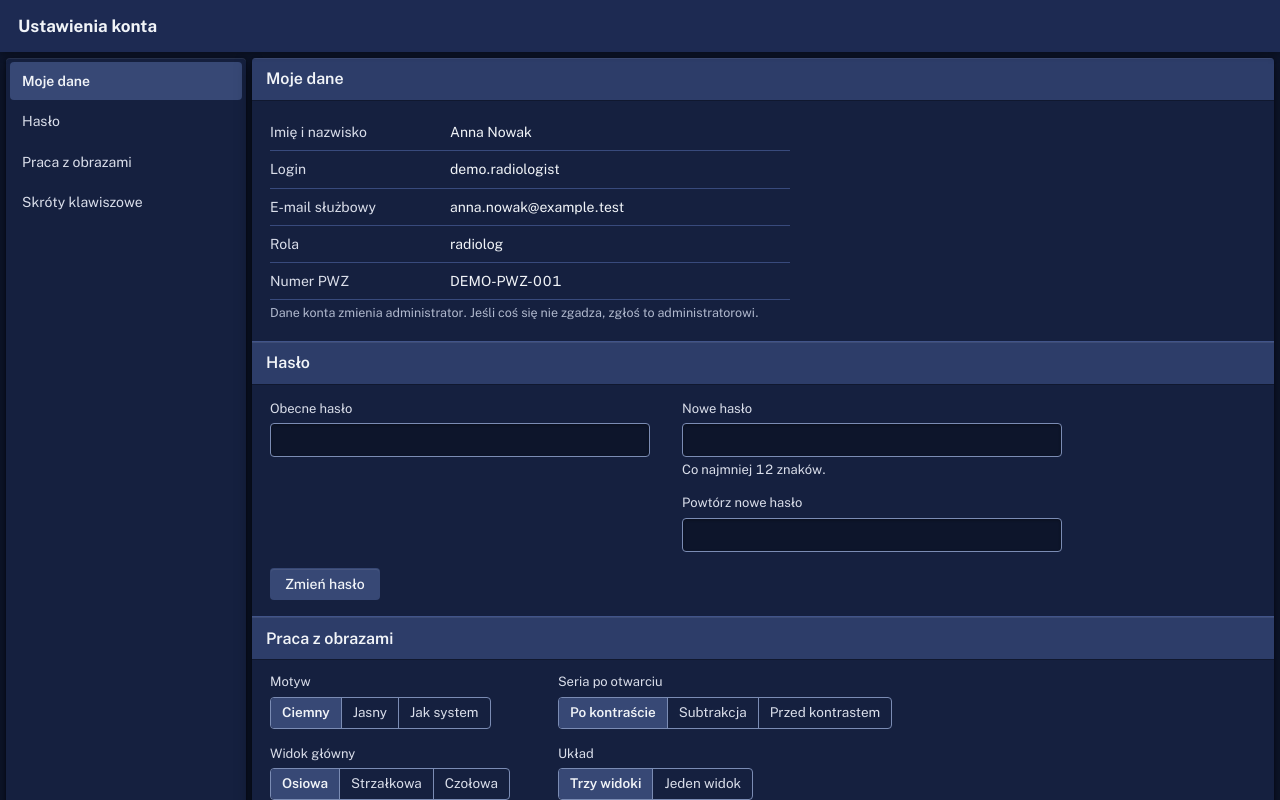
Test case: AccountPage › sends the current and the new password under the names the backend reads
The width and height of the screenshot is (1280, 800).
In the password field labelled "Obecne hasło": (460, 440) [270,424,650,458], type "DemoPass123!"
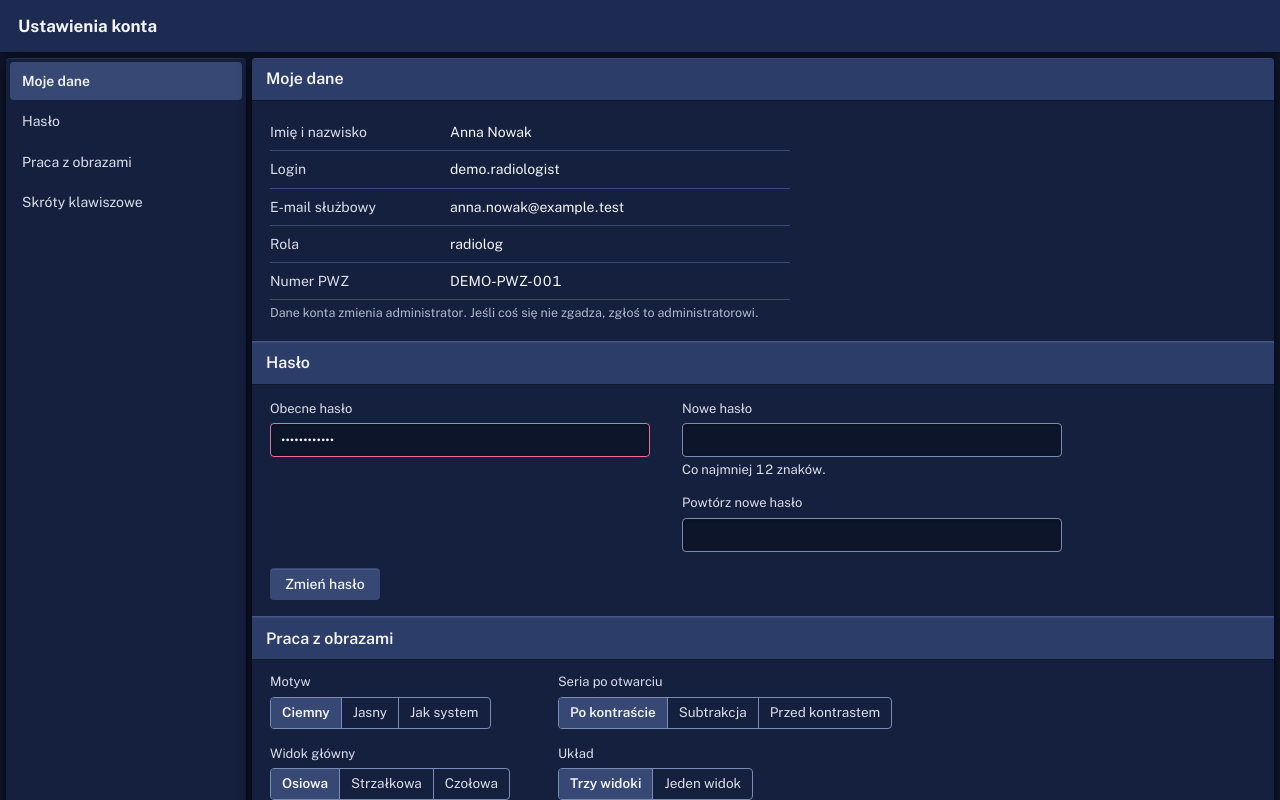
In the password field labelled "Nowe hasło Co najmniej 12 znaków.": (872, 440) [682,424,1062,458], type "NoweHaslo2026!"
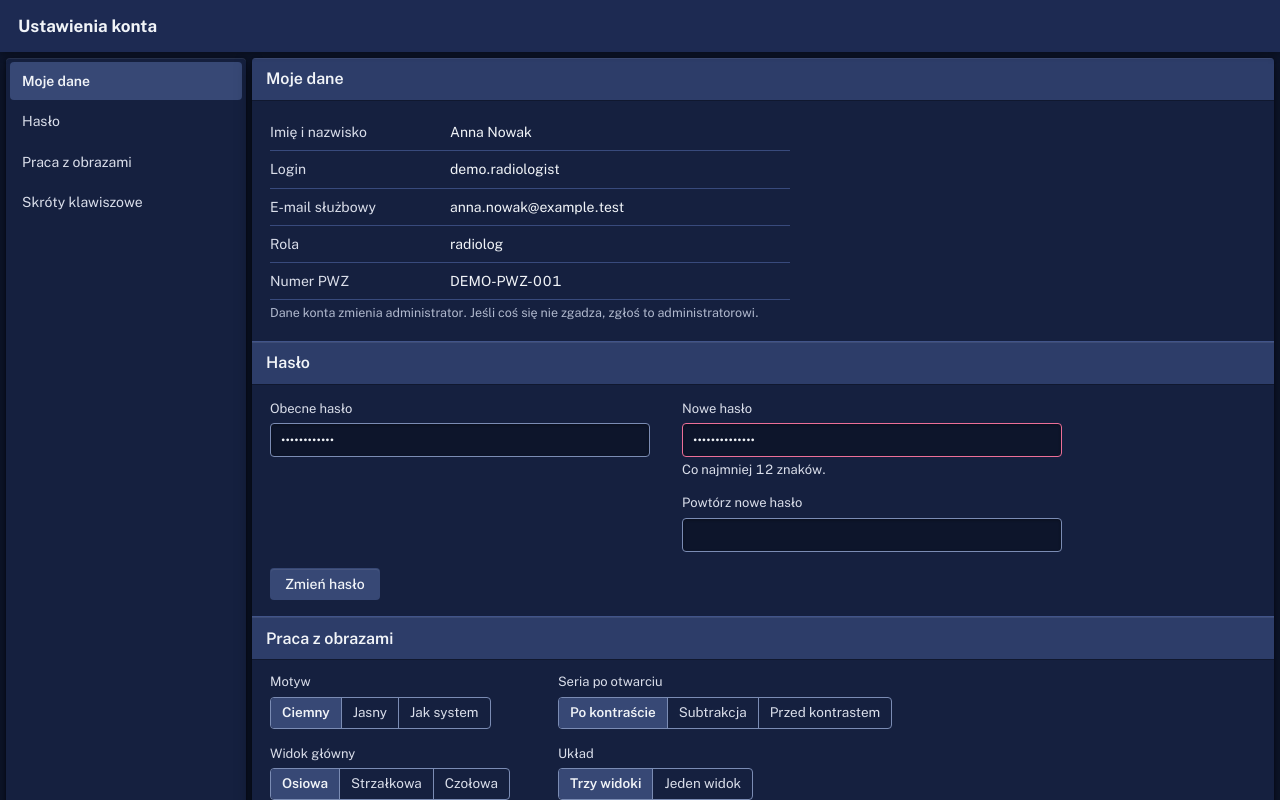
In the password field labelled "Powtórz nowe hasło": (872, 535) [682,518,1062,552], type "NoweHaslo2026!"
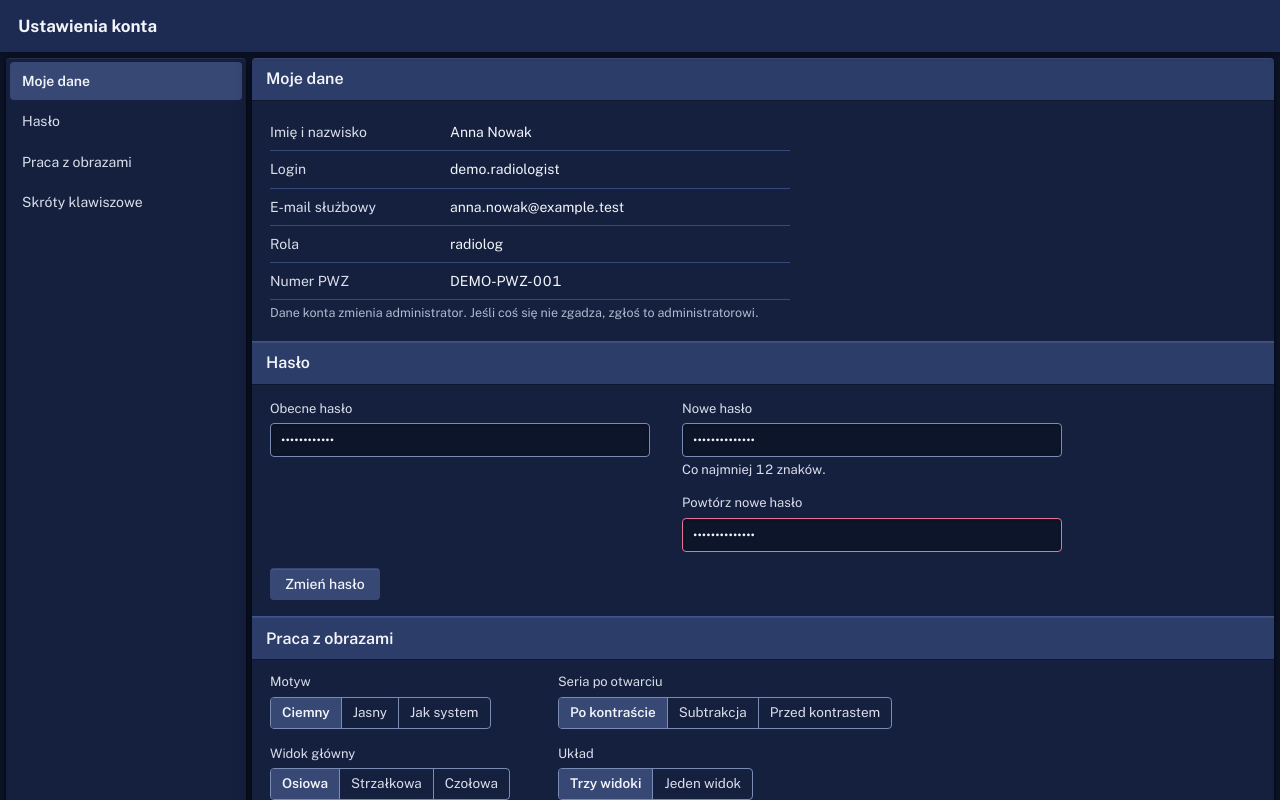
Click the button "Zmień hasło": (325, 584) [270,568,380,600]
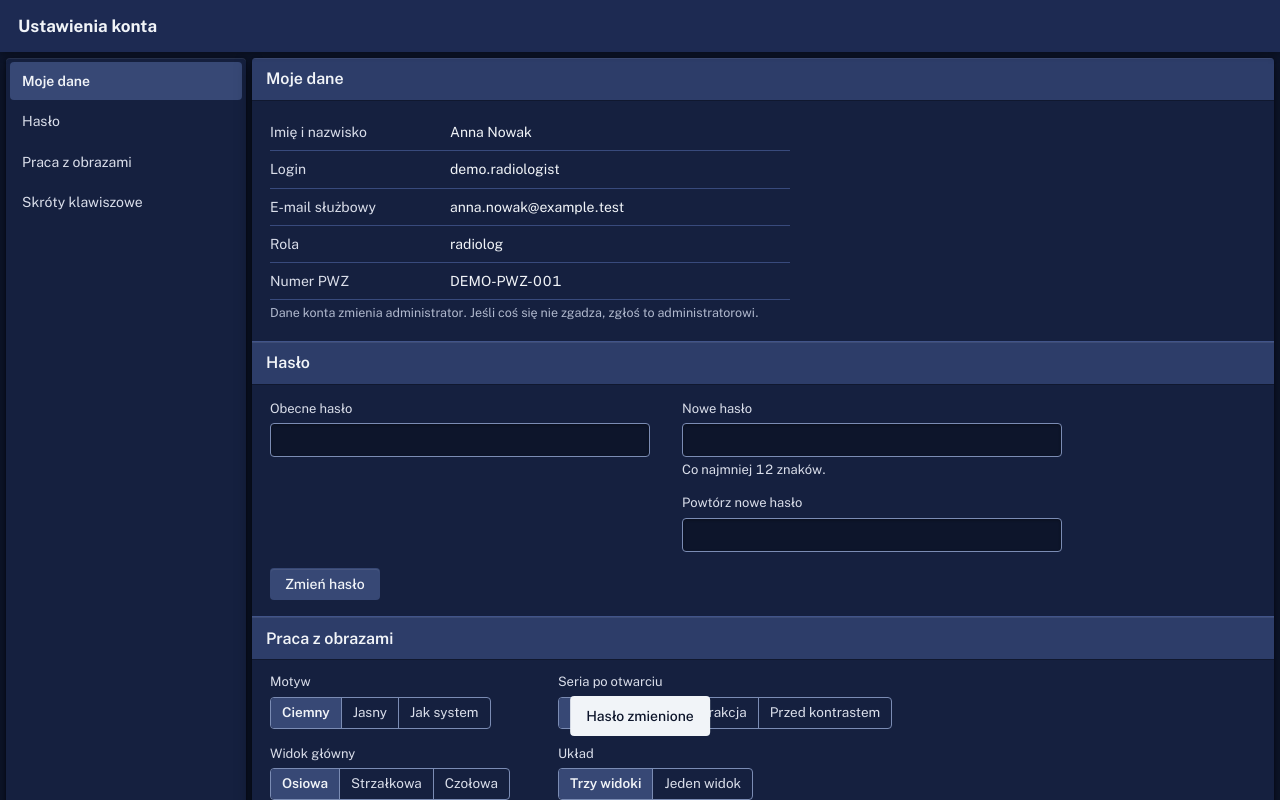
Now the message reads "Hasło zmienione", box [586,708,694,724]
